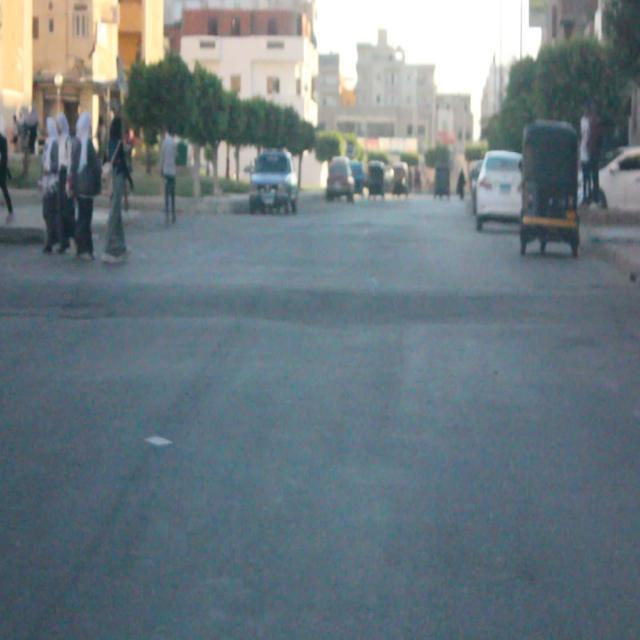NonMarked Bump: (6, 263, 640, 329)
